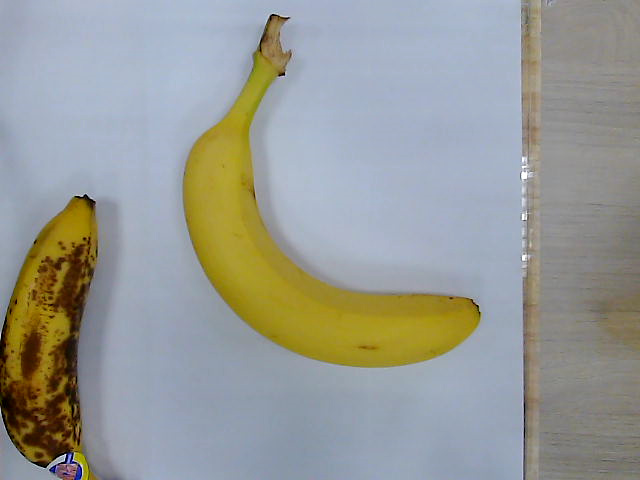fresh_banana: (184, 12, 481, 369)
rotten_banana: (2, 197, 101, 480)
